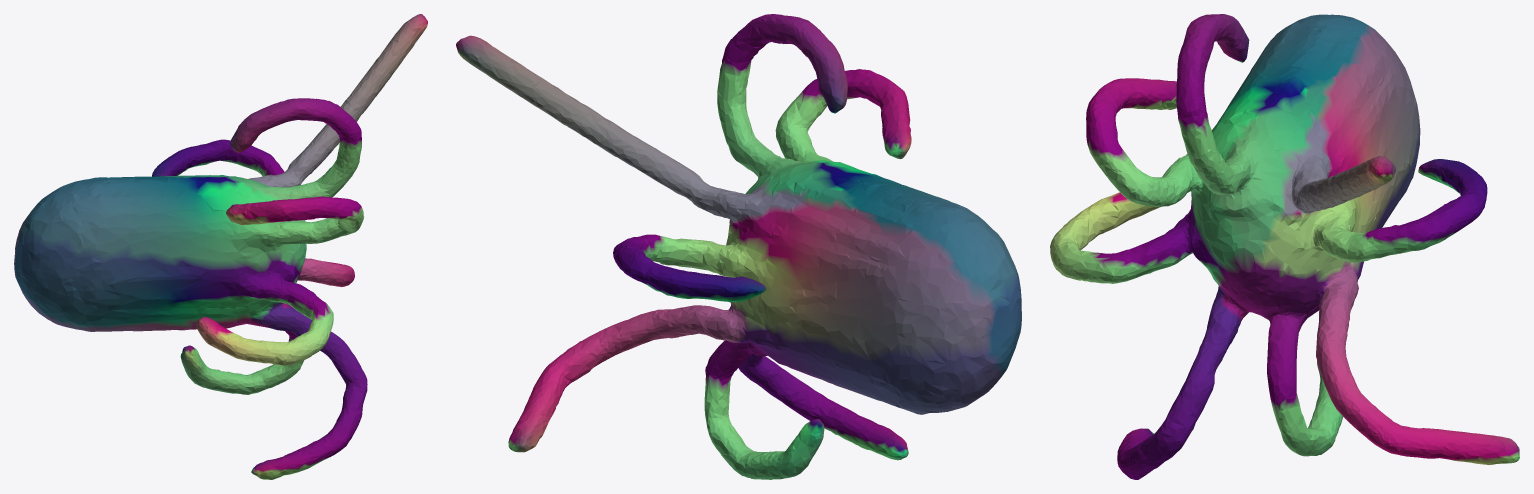
File: octopus-12.off.obj
3 views of the same model, side by side, from view 1: azimuth 30°, elevation 25°; view 2: azimuth 150°, elevation 25°; view 3: azimuth 270°, elevation 25° (orthographic). The views are drawn at different scales.
Bounding box in the file's own units: 1.3 × 1.03 × 0.944.
